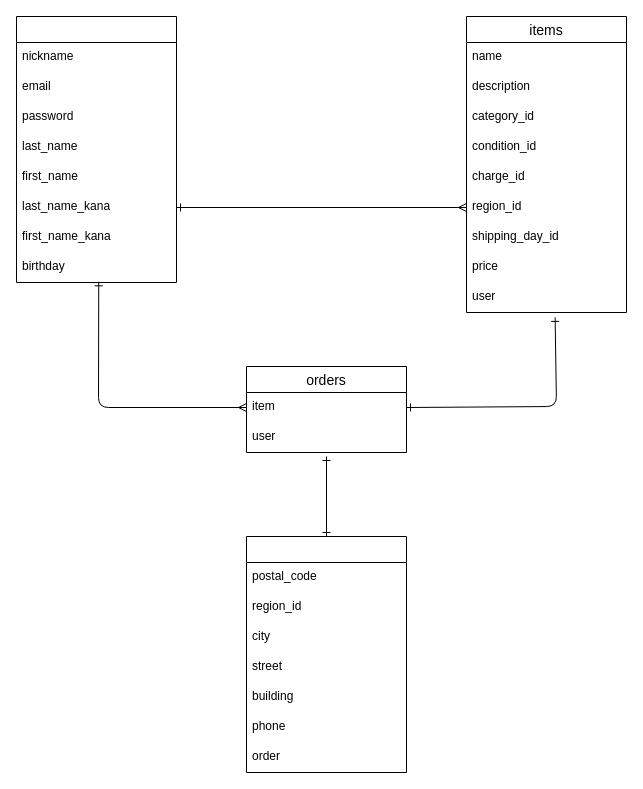
Image size: 643x789. Some labels were removed from this diagram. The shapes that lost their labels are listed below. From the top down, each one's box as (x1, y1, x2, y2) in pixels, then its label:
(16, 16, 176, 282): users
(246, 536, 406, 772): shippings
